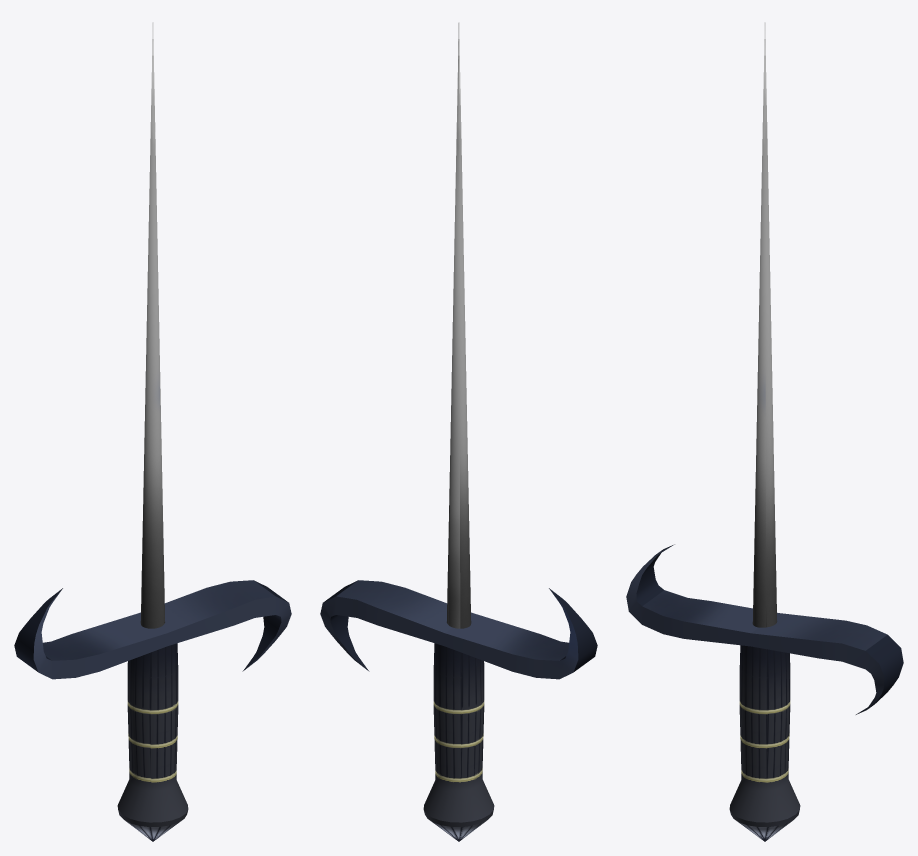
File: rapire_texture.fbx
3 renders of one model, left to right at view 1: azimuth 30°, elevation 25°; view 2: azimuth 150°, elevation 25°; view 3: azimuth 330°, elevation 25°, orthographic.
Visible parts, largest first — view 1: Rapire; view 2: Rapire; view 3: Rapire.
Part boxes in pixels (x1,y1,x2,y2): Rapire: (14,22,291,841); Rapire: (320,22,597,841); Rapire: (626,22,903,841).
Bounding box in the file's own units: 2.29 × 7.03 × 0.5572.
Materials: 1 (1 with a texture image).
